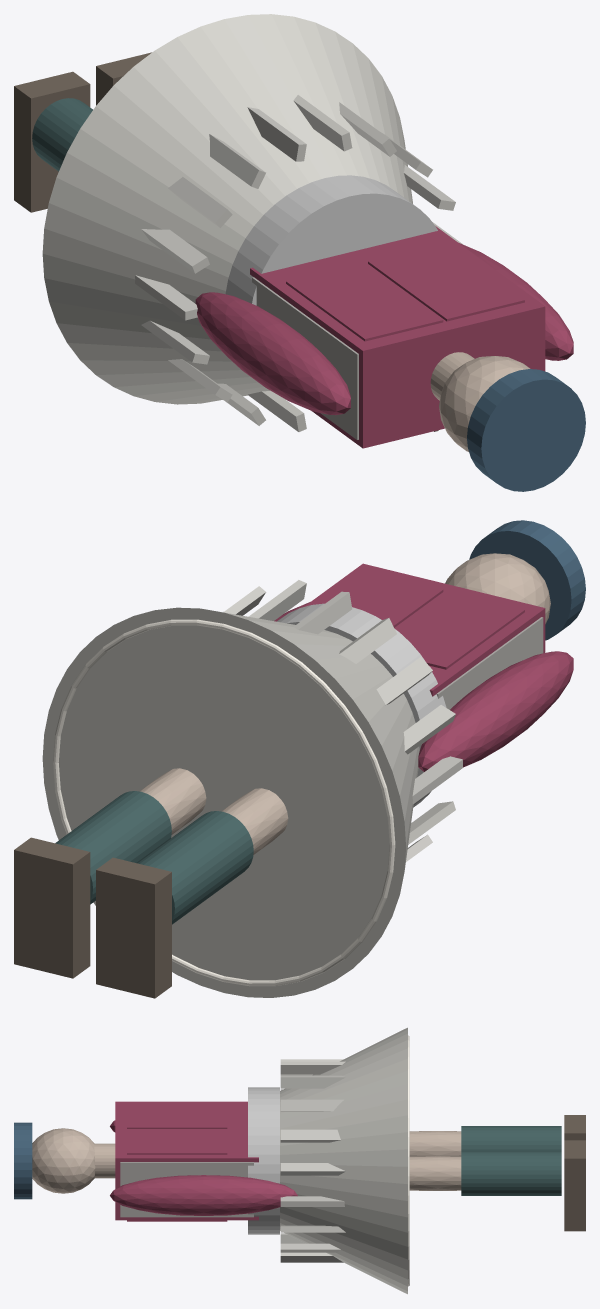
Rendered from MASTER_109_STAGE3_DETAIL.glb.
3 views of the same model, one above another, from view 1: azimuth 30°, elevation 25°; view 2: azimuth 150°, elevation 25°; view 3: azimuth 270°, elevation 25° (orthographic). The views are drawn at different scales.
Visible parts, largest first — view 1: slot_lower_main__fustanellë, slot_upper_inner__këmishë, slot_waist__brez, slot_headwear__mbulesë_koke, slot_upper_inner_sleeve_L, slot_upper_outer__jelek/xhamadan_L, slot_upper_outer__jelek/xhamadan_R, slot_footwear__opinga_L, mannequin_torso, mannequin_head, slot_legwear__çorape_L, slot_upper_inner_sleeve_R (+14 smaller); view 2: slot_lower_main__fustanellë, slot_footwear__opinga_R, slot_footwear__opinga_L, slot_upper_inner_sleeve_L, slot_legwear__çorape_L, detail_fustanella_hem, slot_headwear__mbulesë_koke, slot_upper_outer__jelek/xhamadan_L, slot_legwear__çorape_R, slot_upper_inner__këmishë, slot_waist__brez, mannequin_head (+11 smaller); view 3: slot_lower_main__fustanellë, slot_upper_inner_sleeve_R, slot_legwear__çorape_R, slot_upper_inner__këmishë, slot_waist__brez, mannequin_head, slot_upper_outer__jelek/xhamadan_R, mannequin_torso, slot_legwear__çorape_L, slot_upper_outer__jelek/xhamadan_L, slot_footwear__opinga_R, mannequin_leg_R (+14 smaller).
Part boxes in pixels (box(x1,y1,x2,y2)): slot_lower_main__fustanellë: box(42, 14, 412, 404); slot_upper_inner__këmishë: box(250, 226, 545, 448); slot_waist__brez: box(225, 175, 437, 305); slot_headwear__mbulesë_koke: box(467, 369, 585, 491); slot_upper_inner_sleeve_L: box(195, 292, 350, 415); slot_upper_outer__jelek/xhamadan_L: box(286, 262, 443, 341); slot_upper_outer__jelek/xhamadan_R: box(368, 242, 524, 321); slot_footwear__opinga_L: box(14, 71, 90, 212); mannequin_torso: box(252, 277, 358, 439); mannequin_head: box(439, 356, 530, 451); slot_legwear__çorape_L: box(32, 98, 92, 171); slot_upper_inner_sleeve_R: box(459, 243, 573, 360); slot_lower_main__fustanellë: box(42, 607, 419, 997); slot_footwear__opinga_R: box(14, 837, 90, 978); slot_footwear__opinga_L: box(96, 857, 171, 998); slot_upper_inner_sleeve_L: box(418, 651, 573, 771); slot_legwear__çorape_L: box(137, 811, 253, 924); detail_fustanella_hem: box(53, 619, 395, 986); slot_headwear__mbulesë_koke: box(469, 520, 585, 640); slot_upper_outer__jelek/xhamadan_L: box(395, 590, 524, 669); slot_legwear__çorape_R: box(55, 791, 171, 904); slot_upper_inner__këmishë: box(304, 563, 545, 696); slot_waist__brez: box(277, 603, 446, 807); mannequin_head: box(445, 553, 550, 624); slot_lower_main__fustanellë: box(280, 1027, 407, 1294); slot_upper_inner_sleeve_R: box(110, 1175, 297, 1215); slot_legwear__çorape_R: box(461, 1151, 561, 1195); slot_upper_inner__këmishë: box(115, 1101, 258, 1220); slot_waist__brez: box(248, 1087, 279, 1234); mannequin_head: box(32, 1128, 95, 1193); slot_upper_outer__jelek/xhamadan_R: box(127, 1129, 227, 1221); mannequin_torso: box(120, 1162, 253, 1217); slot_legwear__çorape_L: box(461, 1126, 561, 1151); slot_upper_outer__jelek/xhamadan_L: box(127, 1103, 227, 1128); slot_footwear__opinga_R: box(564, 1140, 585, 1231); mannequin_leg_R: box(409, 1156, 461, 1190).
Bounding box in the file's own units: 0.7991 × 0.7991 × 1.71.
